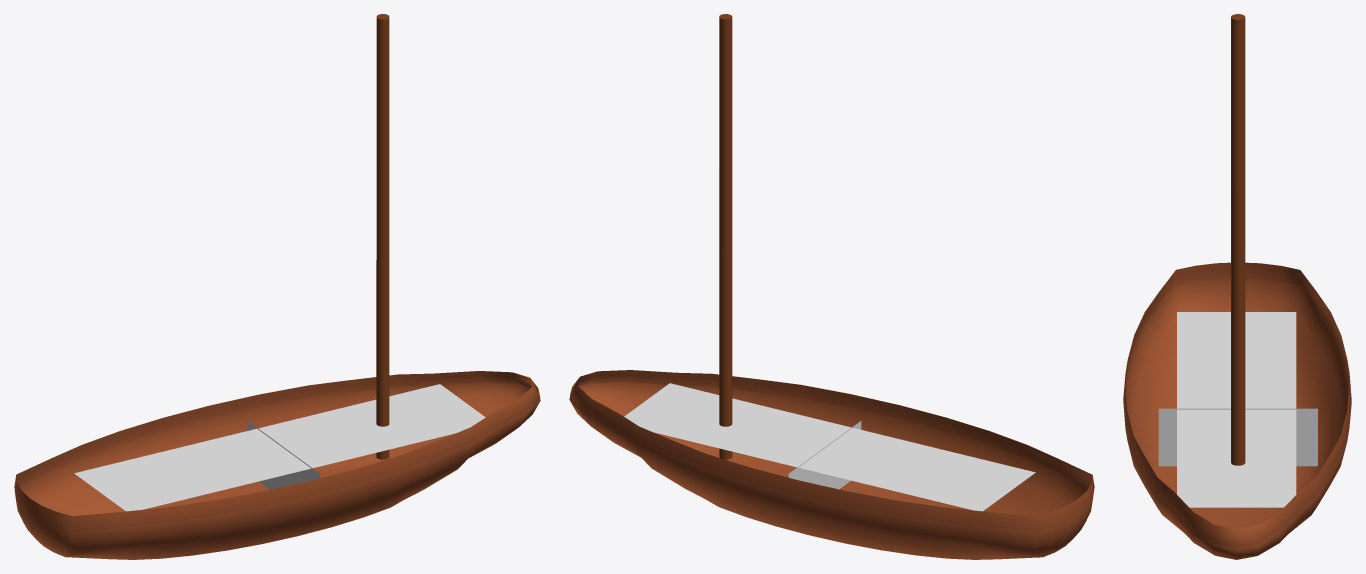
Rendered from smallboat.dae.
The picture shows the model from 3 angles, left to right: view 1: azimuth 30°, elevation 25°; view 2: azimuth 150°, elevation 25°; view 3: azimuth 270°, elevation 25°; orthographic projection. The views are drawn at different scales.
Parts seen in each view (by area): view 1: Sphere_002, Sphere, Plane_001, Cylinder, Plane; view 2: Sphere_002, Sphere, Plane_001, Cylinder, Plane; view 3: Sphere_002, Plane_001, Cylinder, Sphere, Plane.
Boxes of the visible parts, x1,y1,x2,y2 form: Sphere_002: (14, 371, 540, 531); Sphere: (15, 374, 540, 559); Plane_001: (74, 384, 485, 511); Cylinder: (376, 14, 389, 459); Plane: (247, 421, 319, 489); Sphere_002: (570, 370, 1094, 531); Sphere: (569, 373, 1092, 559); Plane_001: (624, 383, 1035, 511); Cylinder: (719, 14, 732, 459); Plane: (788, 421, 861, 489); Sphere_002: (1123, 262, 1351, 547); Plane_001: (1177, 312, 1296, 507); Cylinder: (1231, 14, 1245, 465); Sphere: (1123, 266, 1351, 559); Plane: (1158, 408, 1317, 466).
Bounding box in the file's own units: 14.69 × 5.22 × 12.95.
